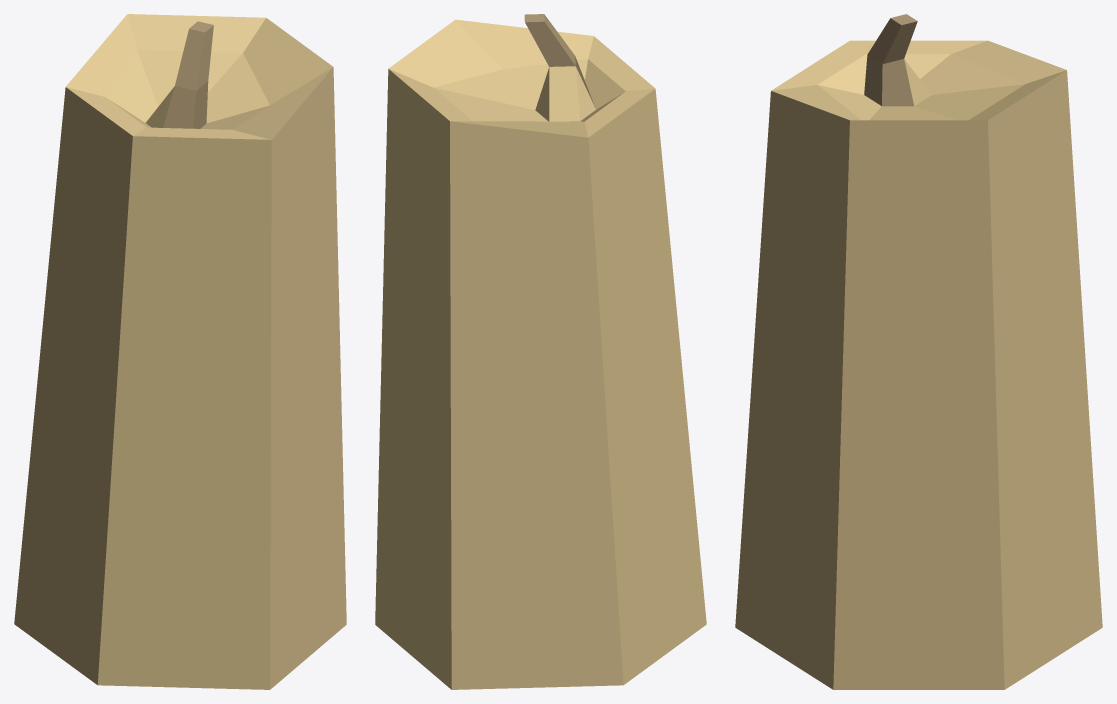
Rendered from SM_SM_Candle_03.fbx.
3 renders of one model, left to right at view 1: azimuth 30°, elevation 25°; view 2: azimuth 150°, elevation 25°; view 3: azimuth 270°, elevation 25°, orthographic. The views are drawn at different scales.
Visible parts, largest first — view 1: SM_Candle_03; view 2: SM_Candle_03; view 3: SM_Candle_03.
Boxes of the visible parts, left/top/right/bottom form: SM_Candle_03: left=14, top=14, right=346, bottom=689; SM_Candle_03: left=375, top=14, right=706, bottom=689; SM_Candle_03: left=735, top=14, right=1102, bottom=689.
Bounding box in the file's own units: 16.32 × 37.53 × 20.33.
